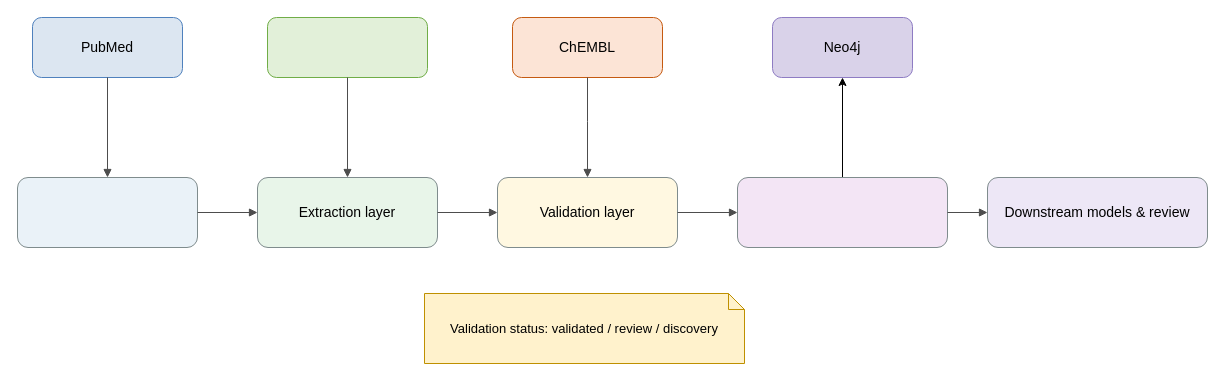
Some shapes in this 1225 by 381 pixel diagram are drawn without their labels. Here are the shapes that lost their labels. From the top down, the centre of each, then its label:
the point at 347,47: Local LLM (Ollama)
the point at 107,212: Ingestion layer
the point at 842,212: Persistence & graph store
